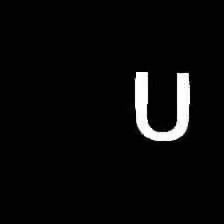LTR_U: (124, 60, 200, 148)
